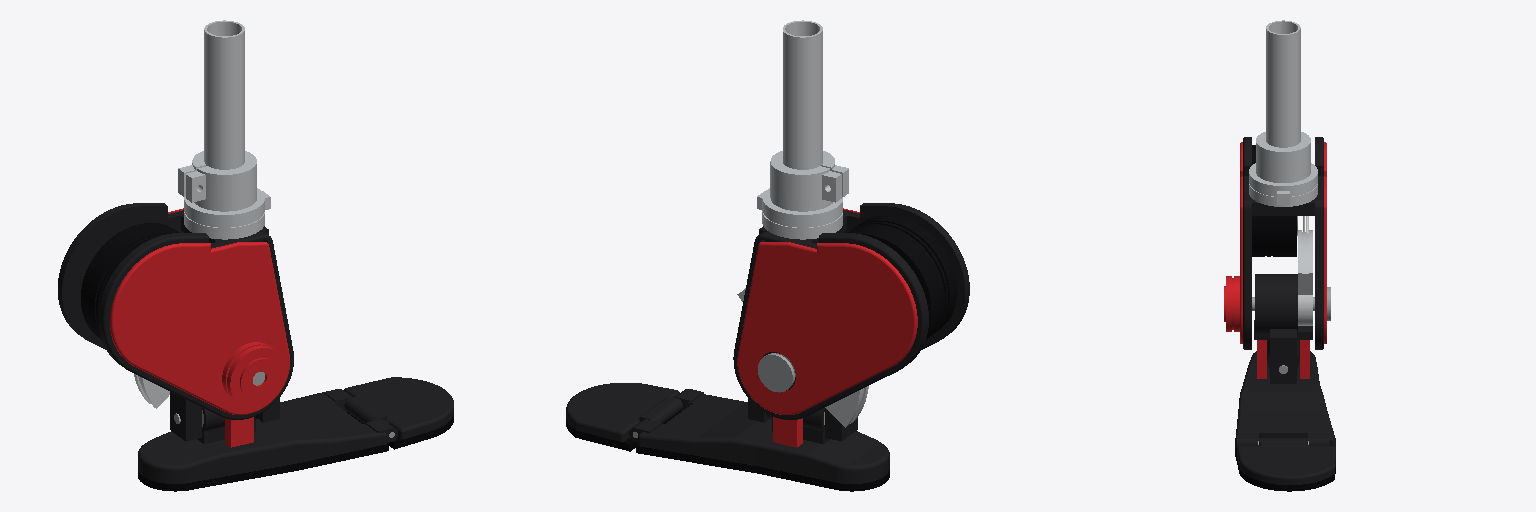
robot.urdf — capleg_transtibial:
<?xml version="1.0"?>
<!-- CapLeg transtibial (standalone). GENERATED by tools/build_sim_models.py -->
<robot name="capleg_transtibial">
  <material name="capleg_accent_red"><color rgba="0.827 0.173 0.196 1"/></material>
  <material name="capleg_graphite"><color rgba="0.16 0.16 0.17 1"/></material>
  <material name="capleg_smoke_clear"><color rgba="0.55 0.57 0.6 0.55"/></material>
  <material name="capleg_aluminium"><color rgba="0.77 0.78 0.79 1"/></material>
  <material name="capleg_steel"><color rgba="0.65 0.66 0.67 1"/></material>
  <material name="capleg_actuator_black"><color rgba="0.09 0.09 0.1 1"/></material>
  <material name="capleg_tpu_black"><color rgba="0.07 0.07 0.07 1"/></material>
  <material name="capleg_cable_white"><color rgba="0.92 0.92 0.89 1"/></material>
  <material name="capleg_pcb_green"><color rgba="0.1 0.28 0.18 1"/></material>
  <link name="capleg_shank">
    <inertial>
      <origin xyz="-0.000773075 7.58214e-11 -0.240462" rpy="0 0 0"/>
      <mass value="0.0943854"/>
      <inertia ixx="0.000175991" ixy="1.49978e-13" ixz="-2.52014e-06" iyy="0.000178016" iyz="3.34857e-13" izz="2.56281e-05"/>
    </inertial>
    <visual>
      <origin xyz="0 0 0" rpy="0 0 0"/>
      <geometry><mesh filename="../../meshes/visual/capleg_shank_pylon__aluminium.stl"/></geometry>
      <material name="capleg_aluminium"/>
    </visual>
    <collision>
      <origin xyz="-0.006 0 -0.1025" rpy="0 3.14159 0"/>
      <geometry><cylinder radius="0.058" length="0.125"/></geometry>
    </collision>
  </link>
  <link name="capleg_shank_imu_link"/>
  <joint name="capleg_shank_imu_joint" type="fixed">
    <parent link="capleg_shank"/>
    <child link="capleg_shank_imu_link"/>
    <origin xyz="0.03 0.019 -0.13" rpy="0 0 0"/>
  </joint>
  <link name="capleg_ankle_module">
    <inertial>
      <origin xyz="-0.0392061 -0.00586419 -0.0537836" rpy="0 0 0"/>
      <mass value="1.21217"/>
      <inertia ixx="0.00277873" ixy="9.89576e-05" ixz="0.000137555" iyy="0.00395443" iyz="-0.000269649" izz="0.00260406"/>
    </inertial>
    <visual>
      <origin xyz="0 0 0" rpy="0 0 0"/>
      <geometry><mesh filename="../../meshes/visual/capleg_ankle_module__accent_red.stl"/></geometry>
      <material name="capleg_accent_red"/>
    </visual>
    <visual>
      <origin xyz="0 0 0" rpy="0 0 0"/>
      <geometry><mesh filename="../../meshes/visual/capleg_ankle_module__actuator_black.stl"/></geometry>
      <material name="capleg_actuator_black"/>
    </visual>
    <visual>
      <origin xyz="0 0 0" rpy="0 0 0"/>
      <geometry><mesh filename="../../meshes/visual/capleg_ankle_module__aluminium.stl"/></geometry>
      <material name="capleg_aluminium"/>
    </visual>
    <visual>
      <origin xyz="0 0 0" rpy="0 0 0"/>
      <geometry><mesh filename="../../meshes/visual/capleg_ankle_module__cable_white.stl"/></geometry>
      <material name="capleg_cable_white"/>
    </visual>
    <visual>
      <origin xyz="0 0 0" rpy="0 0 0"/>
      <geometry><mesh filename="../../meshes/visual/capleg_ankle_module__graphite.stl"/></geometry>
      <material name="capleg_graphite"/>
    </visual>
    <visual>
      <origin xyz="0 0 0" rpy="0 0 0"/>
      <geometry><mesh filename="../../meshes/visual/capleg_ankle_module__steel.stl"/></geometry>
      <material name="capleg_steel"/>
    </visual>
    <collision>
      <origin xyz="-0.04 0 -0.0575" rpy="0 -2.28963 0"/>
      <geometry><cylinder radius="0.05" length="0.0531507"/></geometry>
    </collision>
  </link>
  <joint name="load_cell_joint" type="fixed">
    <parent link="capleg_shank"/>
    <child link="capleg_ankle_module"/>
    <origin xyz="0 0 -0.303" rpy="0 0 0"/>
  </joint>
  <link name="capleg_talus">
    <inertial>
      <origin xyz="-0.00869981 0.00798306 0.00319758" rpy="0 0 0"/>
      <mass value="0.406916"/>
      <inertia ixx="0.000425524" ixy="4.00308e-05" ixz="1.81778e-06" iyy="0.000517819" iyz="-6.08975e-05" izz="0.000343039"/>
    </inertial>
    <visual>
      <origin xyz="0 0 0" rpy="0 0 0"/>
      <geometry><mesh filename="../../meshes/visual/capleg_talus__aluminium.stl"/></geometry>
      <material name="capleg_aluminium"/>
    </visual>
    <visual>
      <origin xyz="0 0 0" rpy="0 0 0"/>
      <geometry><mesh filename="../../meshes/visual/capleg_talus__graphite.stl"/></geometry>
      <material name="capleg_graphite"/>
    </visual>
    <visual>
      <origin xyz="0 0 0" rpy="0 0 0"/>
      <geometry><mesh filename="../../meshes/visual/capleg_talus__steel.stl"/></geometry>
      <material name="capleg_steel"/>
    </visual>
  </link>
  <joint name="ankle_pitch" type="revolute">
    <parent link="capleg_ankle_module"/>
    <child link="capleg_talus"/>
    <origin xyz="0 0 -0.117" rpy="0 0 0"/>
    <axis xyz="0 -1 0"/>
    <limit lower="-0.349066" upper="0.261799" effort="176.5" velocity="11.47"/>
    <dynamics damping="0.2" friction="0.8"/>
  </joint>
  <link name="capleg_foot">
    <inertial>
      <origin xyz="0.0263287 -0.000351722 -0.0279072" rpy="0 0 0"/>
      <mass value="0.27316"/>
      <inertia ixx="0.000161826" ixy="-4.11363e-06" ixz="5.82838e-05" iyy="0.000716938" iyz="-4.17041e-07" izz="0.000753185"/>
    </inertial>
    <visual>
      <origin xyz="0 0 0" rpy="0 0 0"/>
      <geometry><mesh filename="../../meshes/visual/capleg_foot__accent_red.stl"/></geometry>
      <material name="capleg_accent_red"/>
    </visual>
    <visual>
      <origin xyz="0 0 0" rpy="0 0 0"/>
      <geometry><mesh filename="../../meshes/visual/capleg_foot__graphite.stl"/></geometry>
      <material name="capleg_graphite"/>
    </visual>
    <visual>
      <origin xyz="0 0 0" rpy="0 0 0"/>
      <geometry><mesh filename="../../meshes/visual/capleg_foot__steel.stl"/></geometry>
      <material name="capleg_steel"/>
    </visual>
    <visual>
      <origin xyz="0 0 0" rpy="0 0 0"/>
      <geometry><mesh filename="../../meshes/visual/capleg_foot__tpu_black.stl"/></geometry>
      <material name="capleg_tpu_black"/>
    </visual>
    <collision>
      <origin xyz="-0.052 0.018 -0.028" rpy="0 0 0"/>
      <geometry><sphere radius="0.018"/></geometry>
    </collision>
    <collision>
      <origin xyz="-0.052 -0.018 -0.028" rpy="0 0 0"/>
      <geometry><sphere radius="0.018"/></geometry>
    </collision>
    <collision>
      <origin xyz="0.104 0.03 -0.034" rpy="0 0 0"/>
      <geometry><sphere radius="0.012"/></geometry>
    </collision>
    <collision>
      <origin xyz="0.104 -0.026 -0.034" rpy="0 0 0"/>
      <geometry><sphere radius="0.012"/></geometry>
    </collision>
    <collision>
      <origin xyz="0.03 -0.03 -0.036" rpy="0 0 0"/>
      <geometry><sphere radius="0.01"/></geometry>
    </collision>
  </link>
  <joint name="ankle_roll" type="revolute">
    <parent link="capleg_talus"/>
    <child link="capleg_foot"/>
    <origin xyz="0 0 -0.044" rpy="0 0 0"/>
    <axis xyz="1 0 0"/>
    <limit lower="-0.174533" upper="0.174533" effort="60" velocity="10"/>
    <dynamics damping="0.5" friction="0.05"/>
  </joint>
  <link name="capleg_foot_imu_link"/>
  <joint name="capleg_foot_imu_joint" type="fixed">
    <parent link="capleg_foot"/>
    <child link="capleg_foot_imu_link"/>
    <origin xyz="0.04 0 -0.031" rpy="0 0 0"/>
  </joint>
  <link name="capleg_heel_link"/>
  <joint name="capleg_heel_joint" type="fixed">
    <parent link="capleg_foot"/>
    <child link="capleg_heel_link"/>
    <origin xyz="-0.052 0 -0.046" rpy="0 0 0"/>
  </joint>
  <link name="capleg_ball_link"/>
  <joint name="capleg_ball_joint" type="fixed">
    <parent link="capleg_foot"/>
    <child link="capleg_ball_link"/>
    <origin xyz="0.104 0 -0.046" rpy="0 0 0"/>
  </joint>
  <link name="capleg_toe">
    <inertial>
      <origin xyz="0.0326931 0.00354203 -0.00382029" rpy="0 0 0"/>
      <mass value="0.0653597"/>
      <inertia ixx="3.35e-05" ixy="-1.72005e-06" ixz="2.69176e-07" iyy="2.57859e-05" iyz="5.28456e-08" izz="5.71212e-05"/>
    </inertial>
    <visual>
      <origin xyz="0 0 0" rpy="0 0 0"/>
      <geometry><mesh filename="../../meshes/visual/capleg_toe__graphite.stl"/></geometry>
      <material name="capleg_graphite"/>
    </visual>
    <visual>
      <origin xyz="0 0 0" rpy="0 0 0"/>
      <geometry><mesh filename="../../meshes/visual/capleg_toe__tpu_black.stl"/></geometry>
      <material name="capleg_tpu_black"/>
    </visual>
    <collision>
      <origin xyz="0.03 0.022 -0.0025" rpy="0 0 0"/>
      <geometry><sphere radius="0.009"/></geometry>
    </collision>
    <collision>
      <origin xyz="0.03 -0.02 -0.0025" rpy="0 0 0"/>
      <geometry><sphere radius="0.009"/></geometry>
    </collision>
    <collision>
      <origin xyz="0.06 0.012 -0.0025" rpy="0 0 0"/>
      <geometry><sphere radius="0.009"/></geometry>
    </collision>
  </link>
  <joint name="toe" type="revolute">
    <parent link="capleg_foot"/>
    <child link="capleg_toe"/>
    <origin xyz="0.12 0 -0.0345" rpy="0 0 0"/>
    <axis xyz="0 -1 0"/>
    <limit lower="0" upper="0.698132" effort="35" velocity="15"/>
    <dynamics damping="0.05" friction="0.02"/>
  </joint>
  <link name="capleg_toe_tip_link"/>
  <joint name="capleg_toe_tip_joint" type="fixed">
    <parent link="capleg_toe"/>
    <child link="capleg_toe_tip_link"/>
    <origin xyz="0.07 0 -0.0115" rpy="0 0 0"/>
  </joint>
</robot>

--- What the picture shows (computed from the rendered views, not written in the file) ---
3 views of the same robot in one strip: view 1: azimuth 30°, elevation 25°; view 2: azimuth 150°, elevation 25°; view 3: azimuth 270°, elevation 25° (orthographic).
Robot: capleg_transtibial — 10 links, 9 joints (3 revolute, 6 fixed); root link capleg_shank; default pose: every joint at zero.
Visible links, largest first — view 1: capleg_ankle_module, capleg_foot, capleg_shank, capleg_toe, capleg_talus; view 2: capleg_ankle_module, capleg_foot, capleg_shank, capleg_toe, capleg_talus; view 3: capleg_ankle_module, capleg_foot, capleg_shank, capleg_talus, capleg_toe.
Boxes of the visible links, box(x1,y1,x2,y2) form: capleg_ankle_module: box(58, 188, 293, 419); capleg_foot: box(138, 389, 397, 491); capleg_shank: box(178, 20, 256, 211); capleg_toe: box(344, 377, 453, 449); capleg_talus: box(134, 372, 279, 441); capleg_ankle_module: box(733, 188, 969, 419); capleg_foot: box(629, 389, 889, 491); capleg_shank: box(770, 20, 848, 211); capleg_toe: box(566, 383, 682, 451); capleg_talus: box(737, 288, 868, 441); capleg_ankle_module: box(1224, 137, 1326, 349); capleg_foot: box(1235, 340, 1335, 449); capleg_shank: box(1256, 20, 1310, 182); capleg_talus: box(1252, 230, 1330, 383); capleg_toe: box(1235, 438, 1335, 491).
Size in the robot's own frame: 0.3159 by 0.098 by 0.355 metres.
16 mesh visuals loaded from 16 distinct referenced files (16 binary STL).
